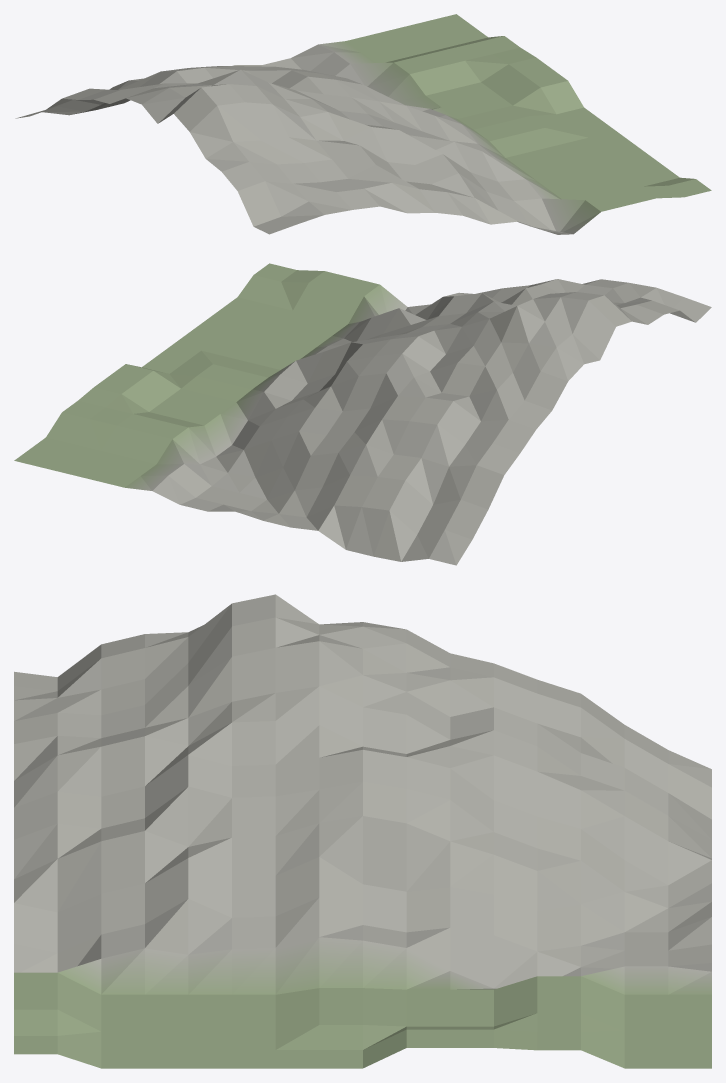
3 renders of one model, top to bottom at view 1: azimuth 30°, elevation 25°; view 2: azimuth 150°, elevation 25°; view 3: azimuth 270°, elevation 25°, orthographic. The views are drawn at different scales.
Bounding box in the file's own units: 32 × 10.81 × 32.
